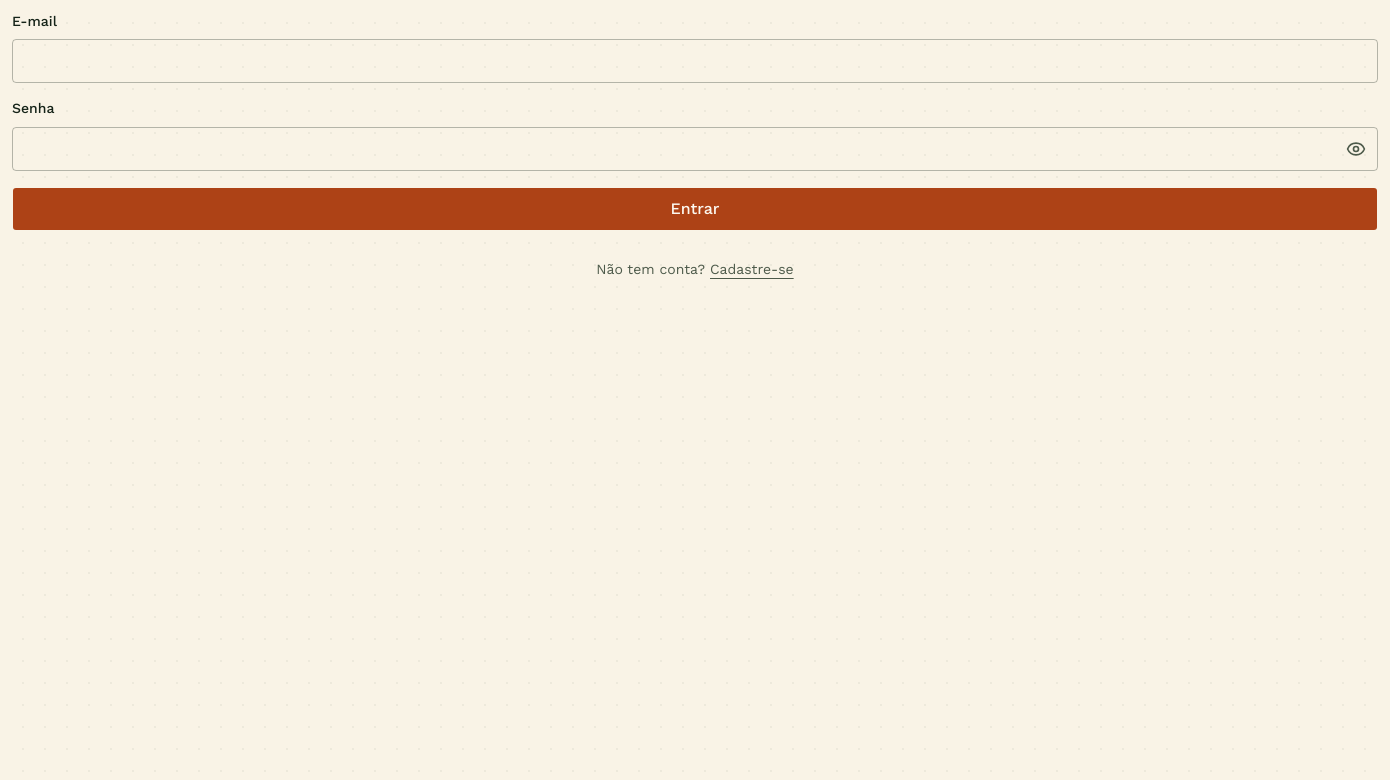
it: LoginForm: erro com toast + aviso inline (role=alert) › erro do servidor
The width and height of the screenshot is (1390, 780).
Type "a@b.com" into the field labelled "E-mail".
click(695, 61); type("a@b.com")  # box [12, 39, 1378, 83]
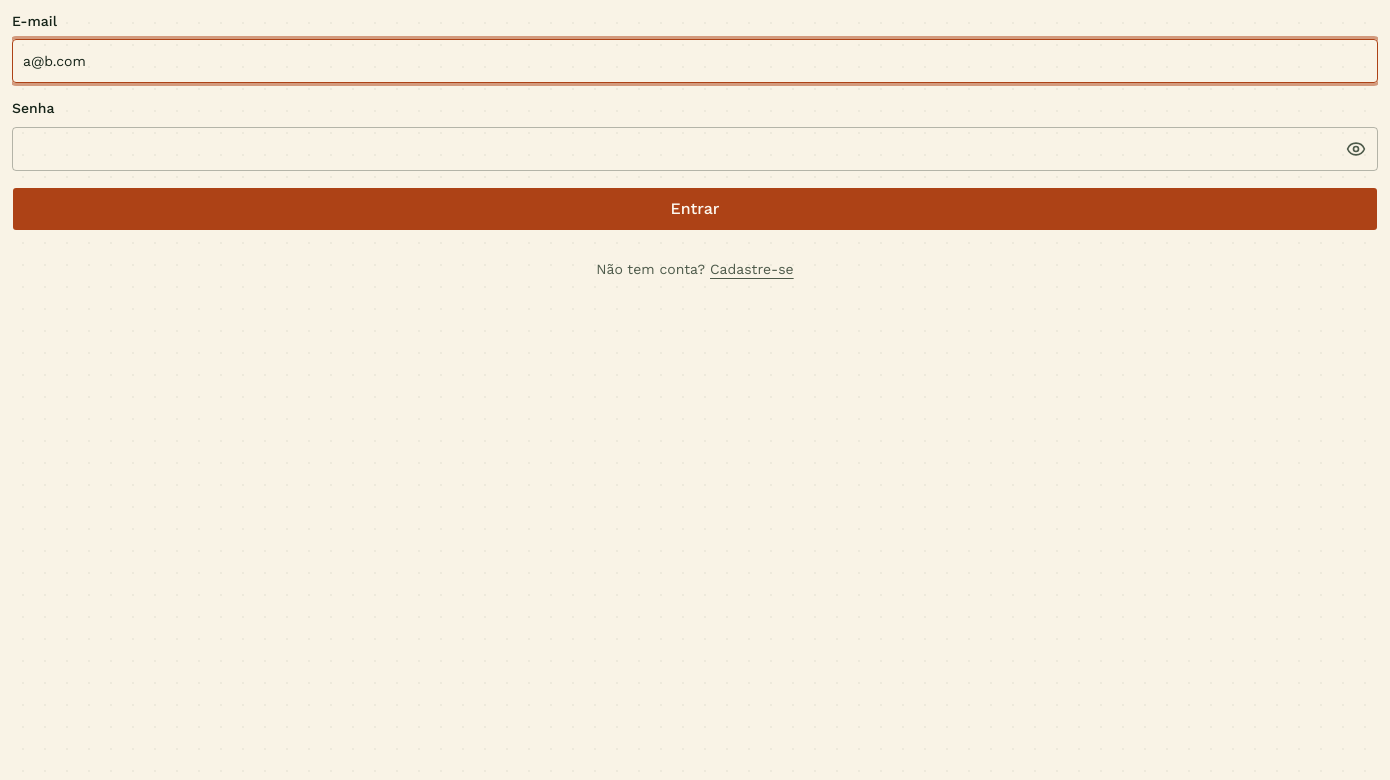
Type "errada" into the password field labelled "Senha".
click(695, 148); type("errada")  # box [12, 126, 1378, 170]
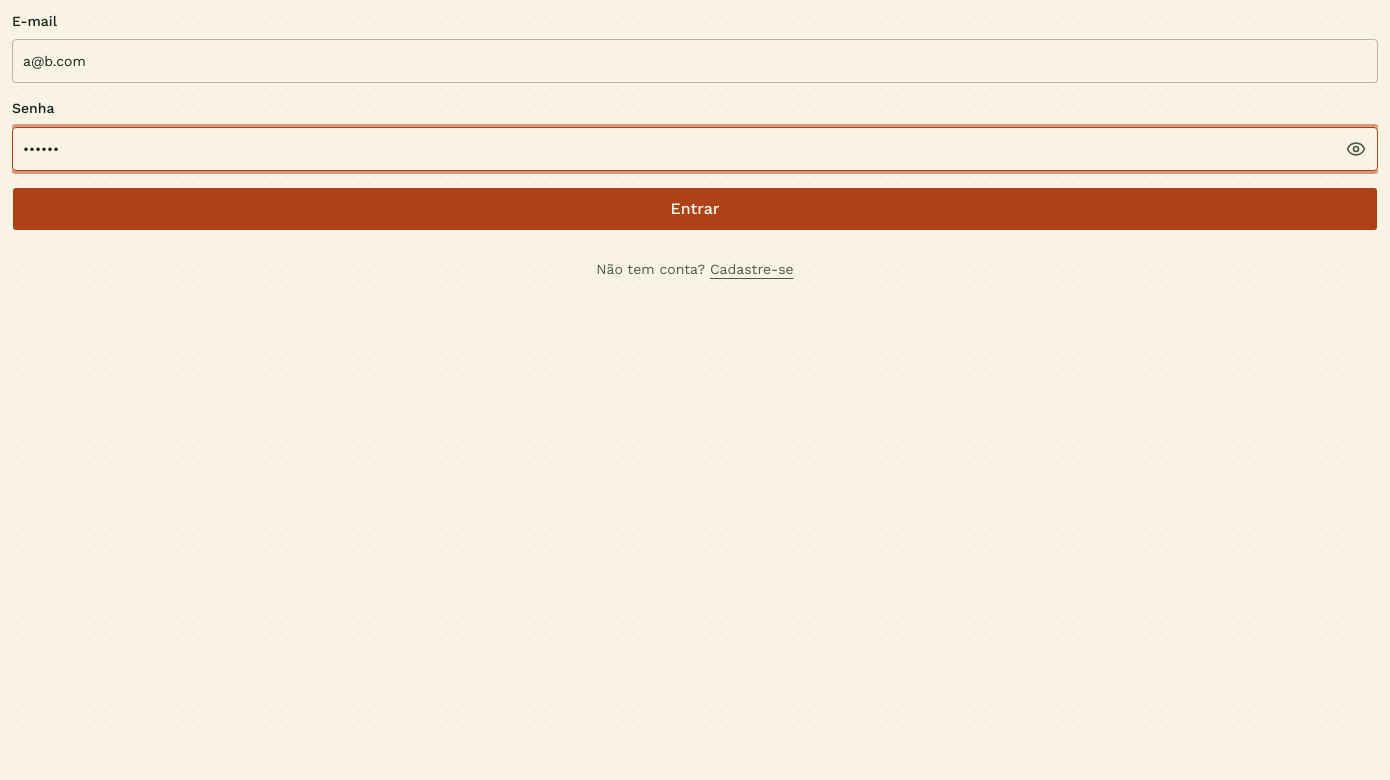
Click the button "Entrar".
click(695, 208)  # box [12, 186, 1378, 230]
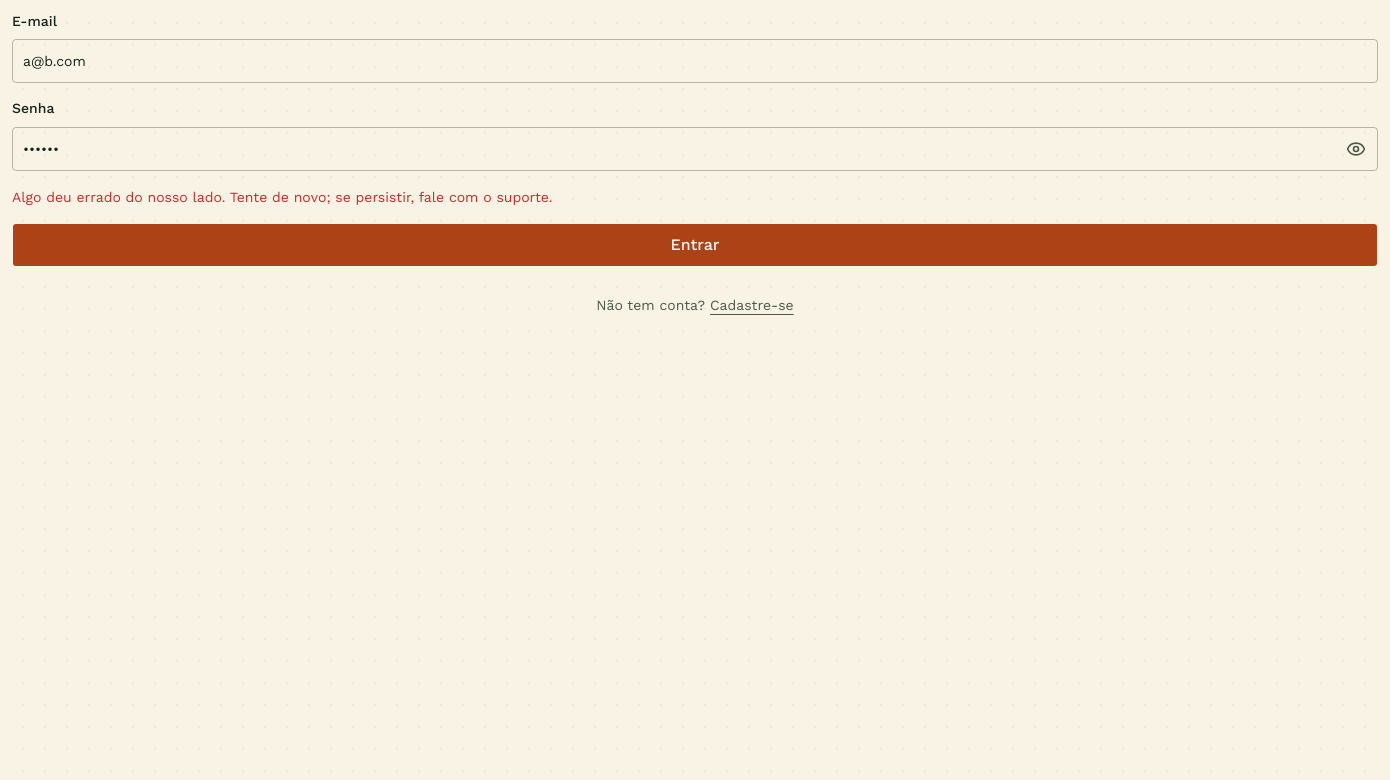
Now the message reads "Algo deu errado do nosso lado. Tente de novo; se persistir, fale com o suporte.", box [12, 188, 553, 204]
